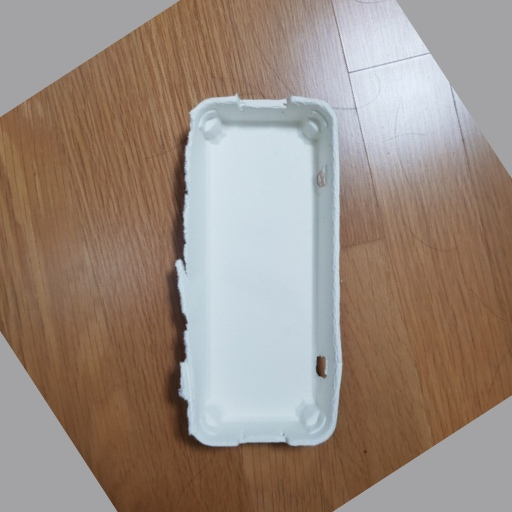Paper_0: (162, 78, 367, 462)
